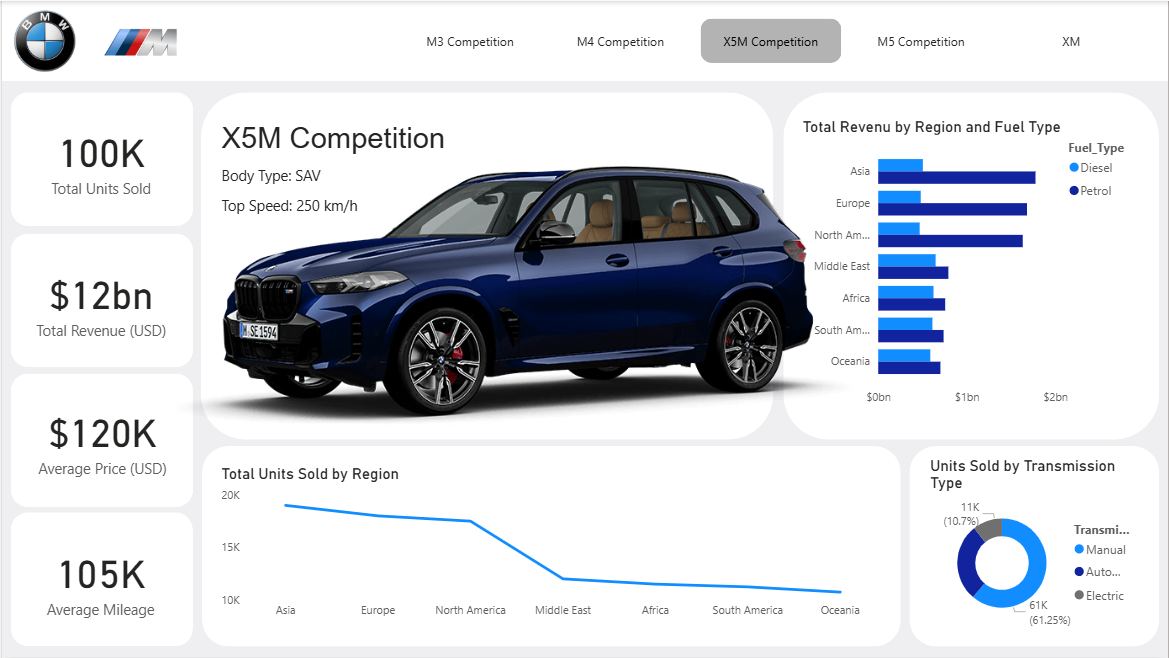

This screenshot's page, from the dashboard's own definition file:
{"tool":"powerbi","page":{"name":"X5M Competition","canvas":[1280,720],"ordinal":2},"visuals":[{"type":"shape","box":[857.1,100,412.9,381.4],"z":0},{"type":"shape","box":[995.7,488.6,274.3,220],"z":1000},{"type":"shape","box":[9.6,408.9,200.3,146.8],"z":2000},{"type":"shape","box":[9.6,255.2,200.3,146.8],"z":3000},{"type":"shape","box":[9.6,100.2,200.3,146.8],"z":4000},{"type":"shape","box":[219.3,488.6,767.1,220],"z":5000},{"type":"shape","box":[218.6,100,628.6,381.4],"z":6000},{"type":"textbox","box":[235.7,127.1,287.1,48.6],"z":7000},{"type":"lineChart","title":"Total Units Sold by Region","fields":{"Category":["X5M_Competition.Region"],"Y":["Sum(X5M_Competition.Units_Sold)"]},"box":[235.7,508.6,730,178.6],"z":8000},{"type":"shape","box":[0,0,1280.3,87.8],"z":9000},{"type":"image","box":[0,0,93.3,87.8],"z":10000},{"type":"image","box":[92.9,20,117.1,50],"z":11000},{"type":"card","fields":{"Values":["Sum(X5M_Competition.Units_Sold)"]},"box":[39.8,113.9,138.6,119.4],"z":12000},{"type":"card","fields":{"Values":["Sum(X5M_Competition.Revenue_USD)"]},"box":[20.6,270.3,177,118],"z":13000},{"type":"card","fields":{"Values":["Avg(X5M_Competition.Avg_Price_USD)"]},"box":[22,422.6,177,118],"z":14000},{"type":"shape","box":[10,561.4,200,147.1],"z":15000},{"type":"textbox","box":[235.7,175.7,152.9,32.9],"z":16000},{"type":"card","fields":{"Values":["Avg(X5M_Competition.Mileage_KM)"]},"box":[30.2,584.6,156.4,102.9],"z":17000},{"type":"donutChart","title":"Units Sold by Transmission Type","fields":{"Category":["X5M_Competition.Transmission"],"Y":["Sum(X5M_Competition.Units_Sold)"]},"box":[1014.3,500,235.7,197.1],"z":18000},{"type":"clusteredBarChart","title":"Total Revenu by Region and Fuel Type","fields":{"Category":["X5M_Competition.Region"],"Y":["Sum(X5M_Competition.Revenue_USD)"],"Series":["X5M_Competition.Fuel_Type"]},"box":[874.3,127.1,381.4,325.7],"z":19000},{"type":"textbox","box":[235.7,208.6,168.6,50],"z":20000},{"type":"image","box":[60,70,1072.9,472.9],"z":21000},{"type":"pageNavigator","box":[436.4,19.2,819.2,49.4],"z":21001}]}

Visuals, with their boxes in screenshot pixels (x1, y1, x2, y2), scaled from the page's 1280x720 canvas onto the 1169x658 screenshot:
shape: detection(783, 91, 1160, 440)
shape: detection(909, 447, 1160, 648)
shape: detection(9, 374, 192, 508)
shape: detection(9, 233, 192, 367)
shape: detection(9, 92, 192, 226)
shape: detection(200, 447, 901, 648)
shape: detection(200, 91, 774, 440)
textbox: detection(215, 116, 477, 161)
"Total Units Sold by Region" lineChart: detection(215, 465, 882, 628)
shape: detection(0, 0, 1168, 80)
image: detection(0, 0, 85, 80)
image: detection(85, 18, 192, 64)
card - Sum(X5M_Competition.Units_Sold): detection(36, 104, 163, 213)
card - Sum(X5M_Competition.Revenue_USD): detection(19, 247, 180, 355)
card - Avg(X5M_Competition.Avg_Price_USD): detection(20, 386, 182, 494)
shape: detection(9, 513, 192, 647)
textbox: detection(215, 161, 355, 191)
card - Avg(X5M_Competition.Mileage_KM): detection(28, 534, 170, 628)
"Units Sold by Transmission Type" donutChart: detection(926, 457, 1142, 637)
"Total Revenu by Region and Fuel Type" clusteredBarChart: detection(798, 116, 1147, 414)
textbox: detection(215, 191, 369, 236)
image: detection(55, 64, 1035, 496)
pageNavigator: detection(399, 18, 1147, 63)
